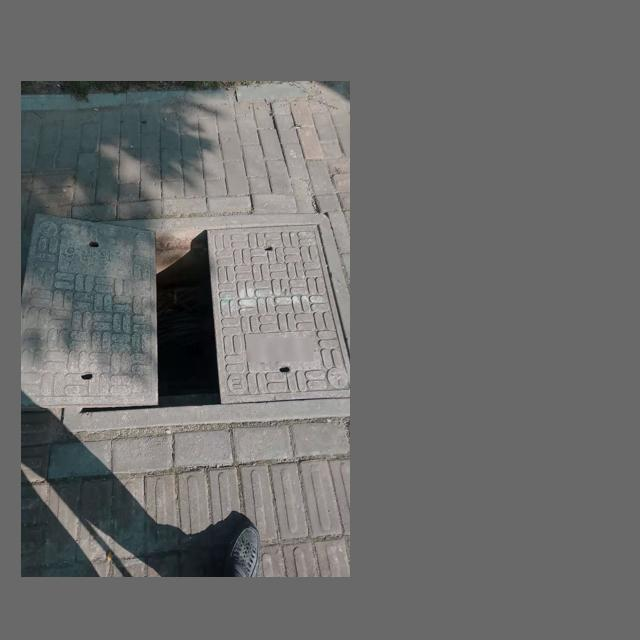uncovered: (27, 202, 319, 429)
